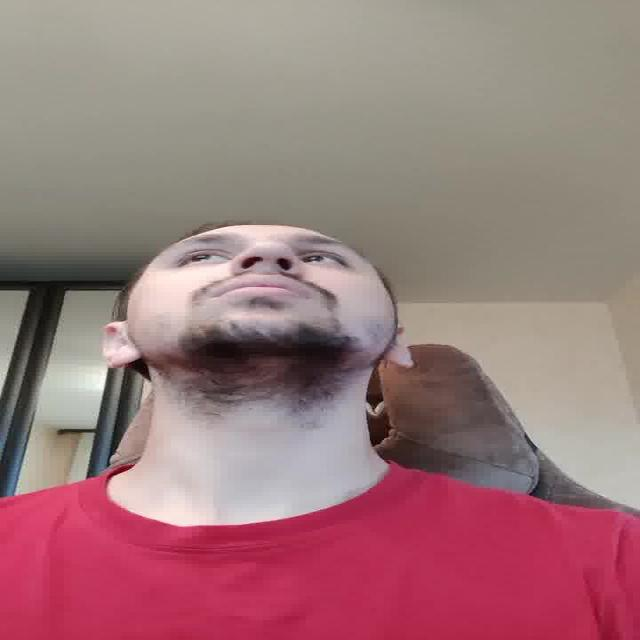earlobe: (104, 355, 144, 369), (385, 350, 413, 367)
eye: (180, 250, 236, 264), (299, 253, 346, 266)
nose: (236, 261, 300, 277)
wholeear: (105, 323, 141, 368)
